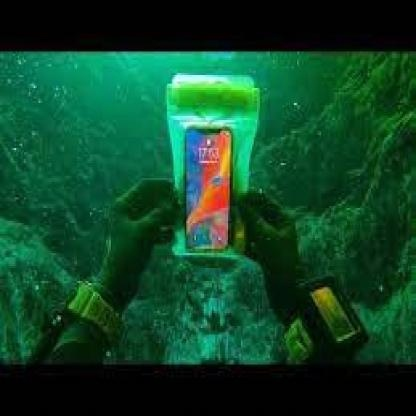cellphone: (183, 124, 235, 258)
